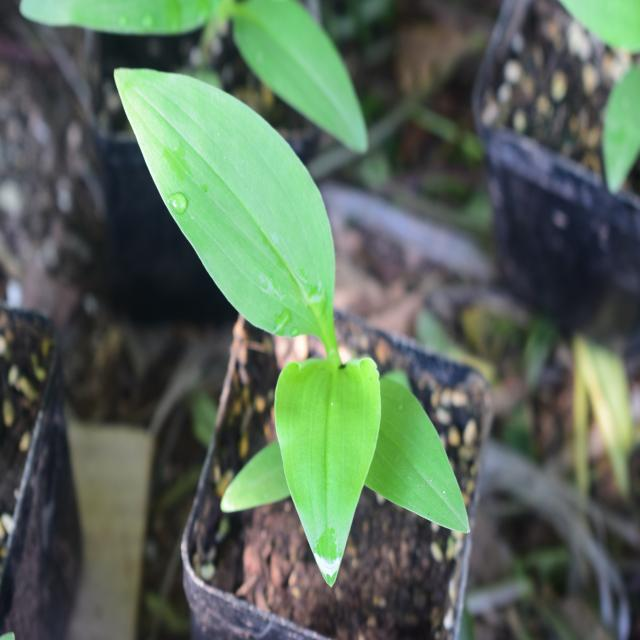Common Dayflower: (108, 42, 476, 590)
